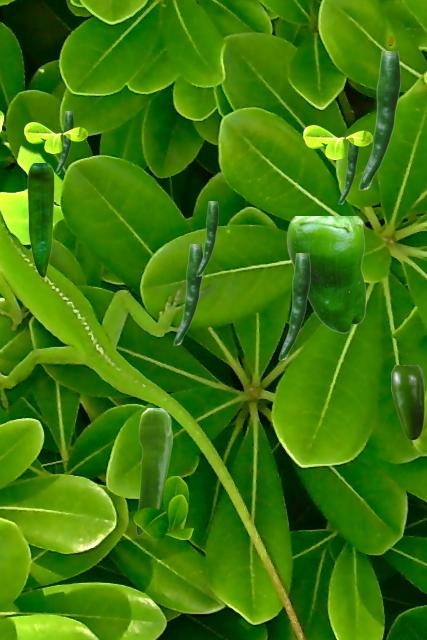green_chili: (286, 216, 365, 332), (358, 51, 399, 189), (136, 408, 171, 534), (278, 253, 309, 359), (27, 163, 53, 276), (173, 244, 202, 344), (391, 365, 423, 439), (196, 201, 217, 275), (338, 141, 357, 203), (55, 111, 72, 173)
